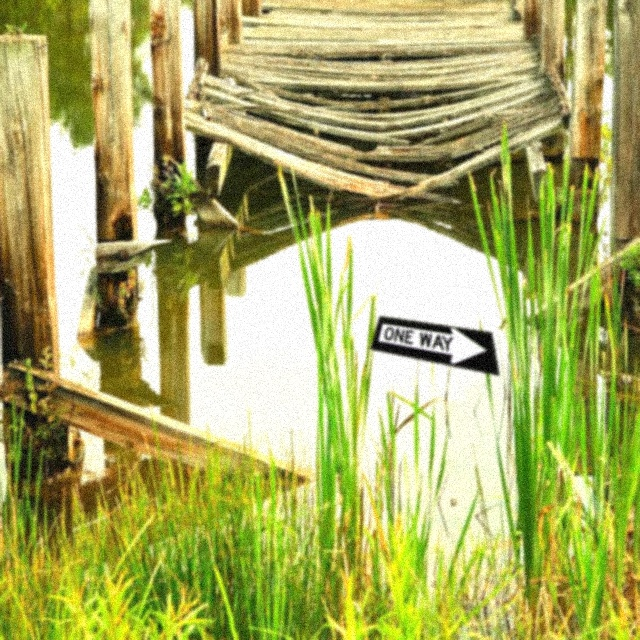ONE_WAY_ right: (369, 315, 500, 376)
